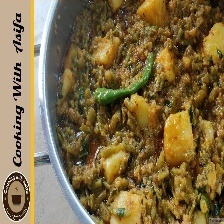sabzi: (50, 0, 224, 224)
